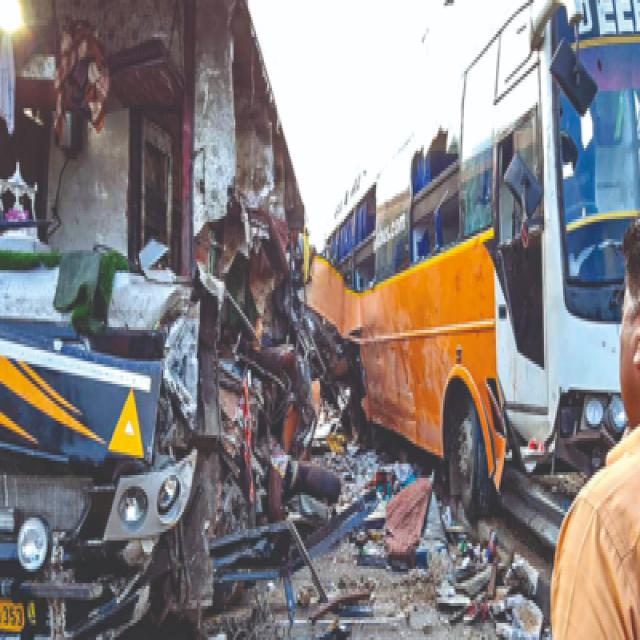accident: (0, 0, 314, 637), (306, 0, 640, 517)
